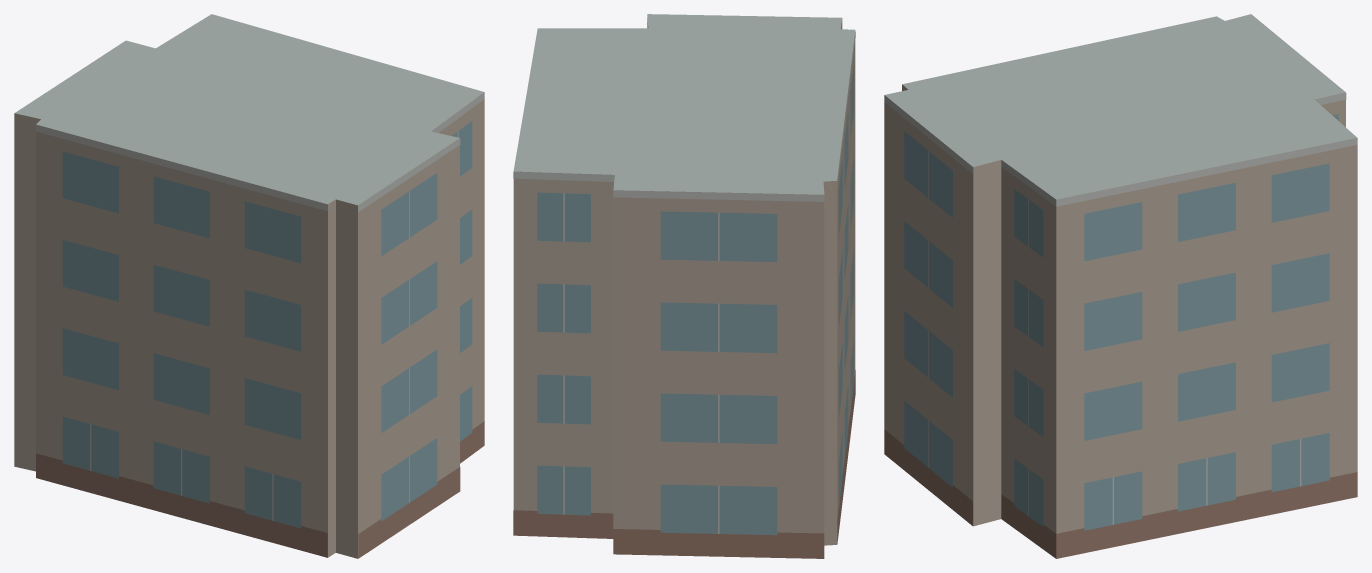
File: survey-upis-32697334.glb
3 views of the same model, side by side, from view 1: azimuth 30°, elevation 25°; view 2: azimuth 150°, elevation 25°; view 3: azimuth 270°, elevation 25° (orthographic). The views are drawn at different scales.
Parts seen in each view (by area): view 1: survey-upis-32697334.tmp; view 2: survey-upis-32697334.tmp; view 3: survey-upis-32697334.tmp.
Part boxes in pixels (x1,y1,x2,y2): survey-upis-32697334.tmp: (14, 14, 484, 558); survey-upis-32697334.tmp: (513, 14, 855, 558); survey-upis-32697334.tmp: (884, 14, 1357, 558).
Bounding box in the file's own units: 13.75 × 12.4 × 14.81.
